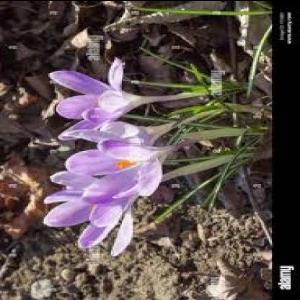Saffron: (43, 170, 144, 255), (57, 60, 146, 140), (68, 138, 167, 196)
